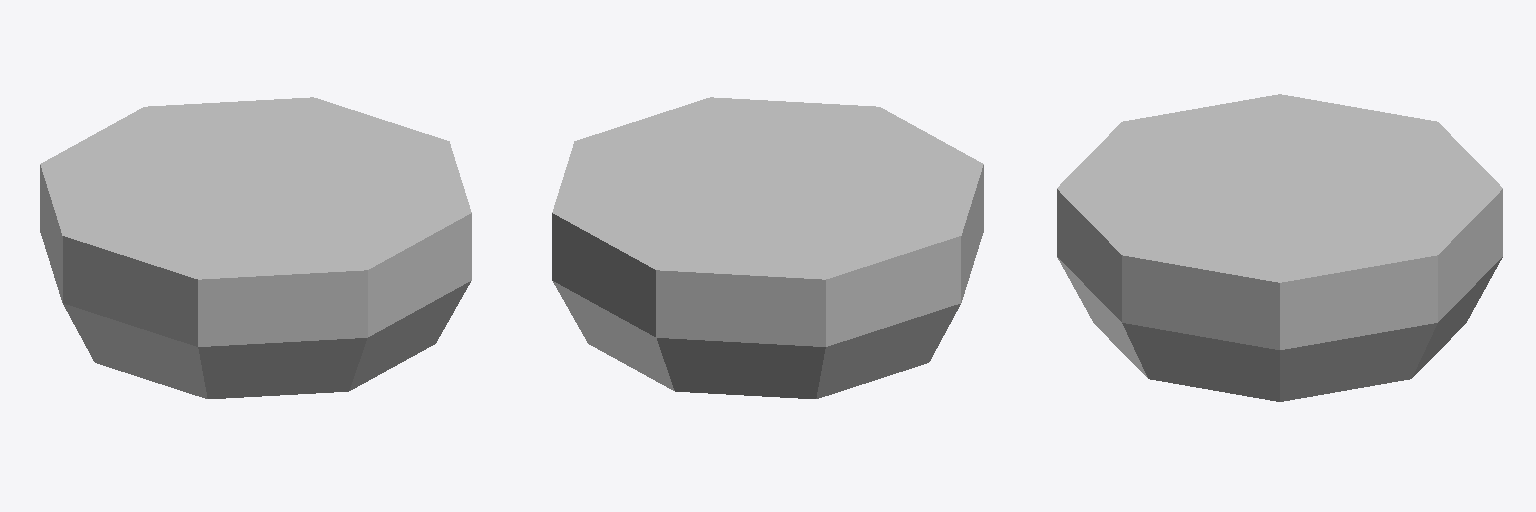
The model's file is tower-edge.obj.
The picture shows the model from 3 angles: view 1: azimuth 30°, elevation 25°; view 2: azimuth 150°, elevation 25°; view 3: azimuth 270°, elevation 25°; orthographic projection.
Visible parts, largest first — view 1: tower-edge; view 2: tower-edge; view 3: tower-edge.
Part boxes in pixels (x1,y1,x2,y2): tower-edge: (40, 97, 471, 398); tower-edge: (552, 97, 983, 398); tower-edge: (1057, 94, 1502, 401).
Size of the model in its own units: 1.2 by 0.4 by 1.2.